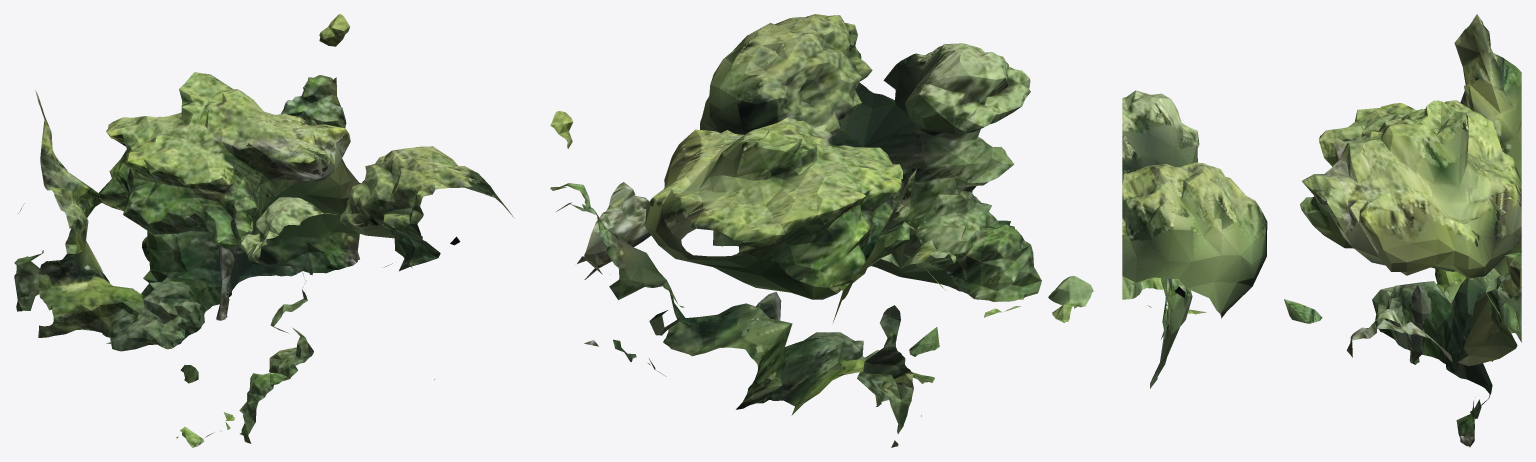
3 renders of one model, left to right at view 1: azimuth 30°, elevation 25°; view 2: azimuth 150°, elevation 25°; view 3: azimuth 270°, elevation 25°, orthographic. The views are drawn at different scales.
Size of the model in its own units: 26.11 by 19.12 by 26.11.
6 materials, 6 textured.
